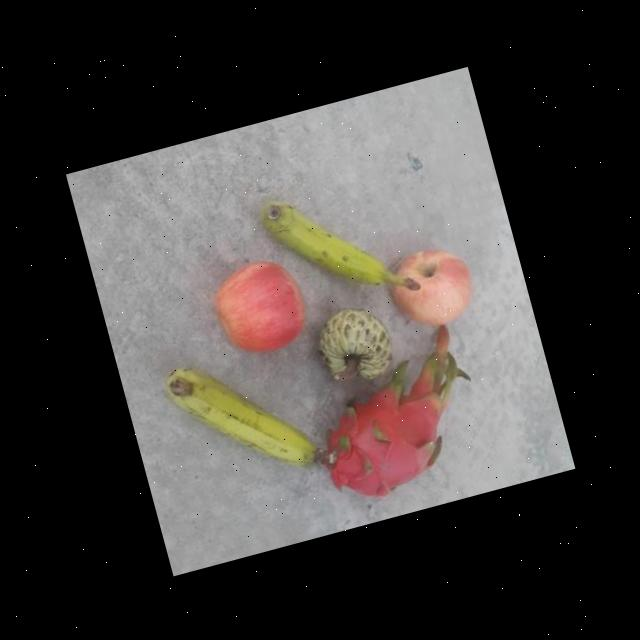Sakya fruit: (305, 296, 401, 392)
apple: (204, 250, 316, 364), (380, 236, 484, 338)
banana: (156, 334, 324, 496), (255, 167, 421, 326)
pitaya: (304, 367, 464, 515)
